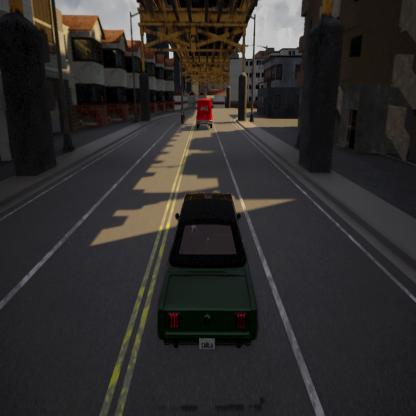Cars: (148, 178, 262, 360), (192, 94, 214, 132)
